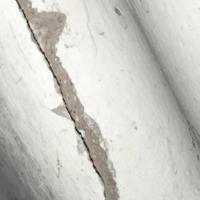crack: (10, 2, 113, 199)
